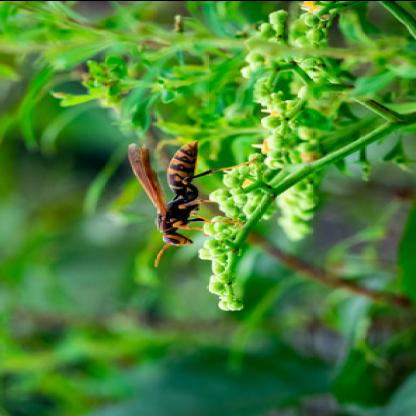asian: (121, 136, 235, 266)
